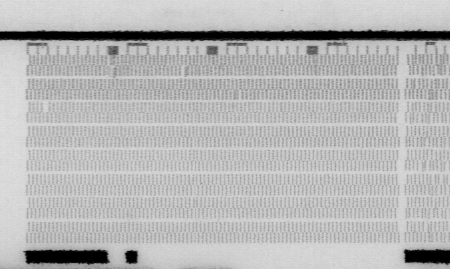Broken hole: (40, 102, 52, 114)
Oblique printing: (407, 55, 450, 124), (105, 54, 120, 80), (422, 220, 435, 244), (426, 172, 439, 187), (232, 87, 245, 101), (421, 158, 433, 173), (178, 65, 191, 78), (442, 160, 450, 174)
